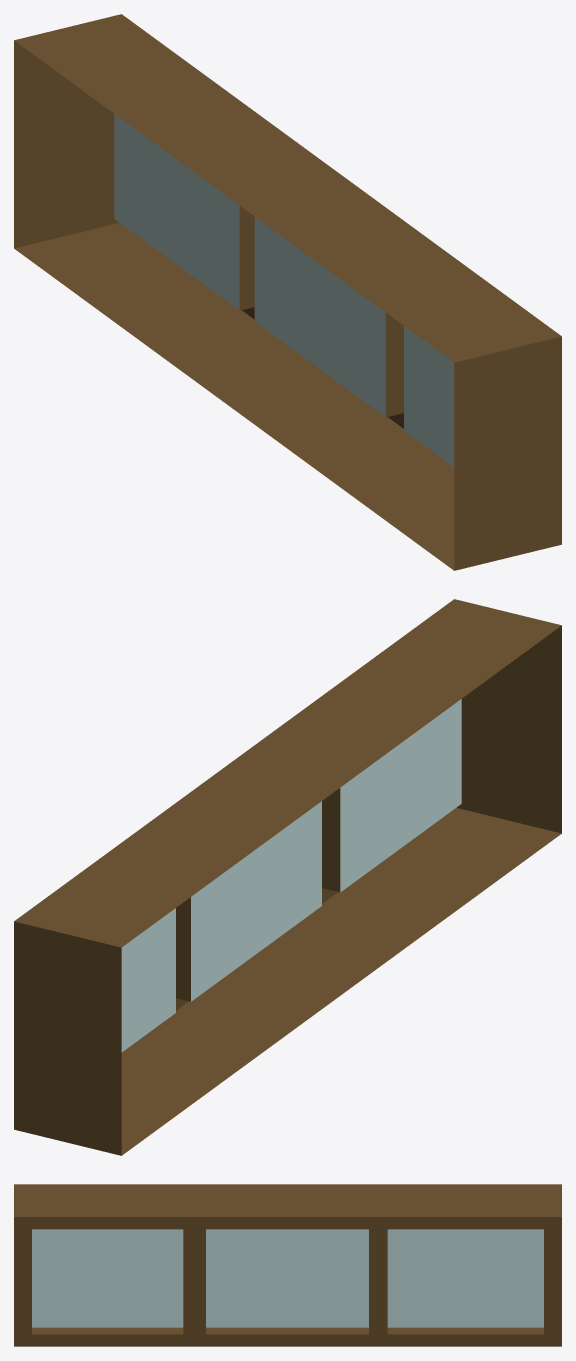
File: window_2_5.fbx
3 views of the same model, one above another, from view 1: azimuth 30°, elevation 25°; view 2: azimuth 150°, elevation 25°; view 3: azimuth 270°, elevation 25° (orthographic). The views are drawn at different scales.
Visible parts, largest first — view 1: window_2_5; view 2: window_2_5; view 3: window_2_5.
Boxes of the visible parts, box(x1,y1,x2,y2) form: window_2_5: box(14, 14, 561, 570); window_2_5: box(14, 599, 561, 1155); window_2_5: box(14, 1184, 561, 1346).
Bounding box in the file's own units: 49.39 × 91.3 × 350.
